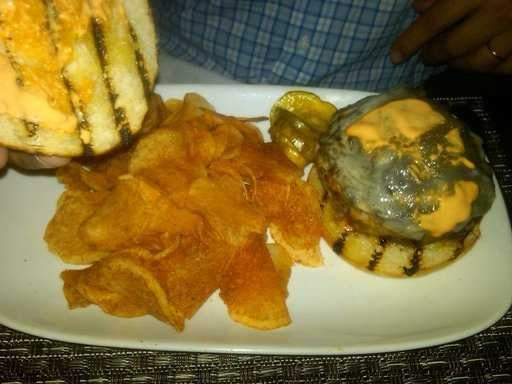hamburger: (306, 83, 475, 278)
